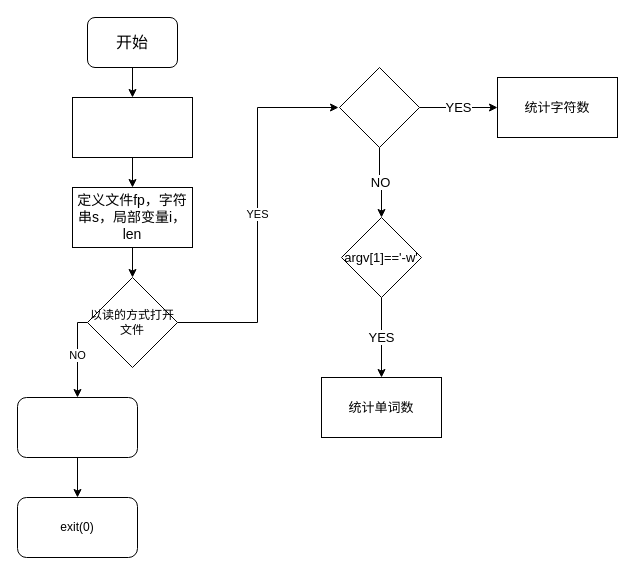
Some shapes in this 635 by 575 pixel diagram are drawn without their labels. Each missing label, with the centre of its shape:
argv[1]=='-c': the point at 379,107
初始化定义全局变量word，charNum,c: the point at 132,127
打印open failed: the point at 77,427
